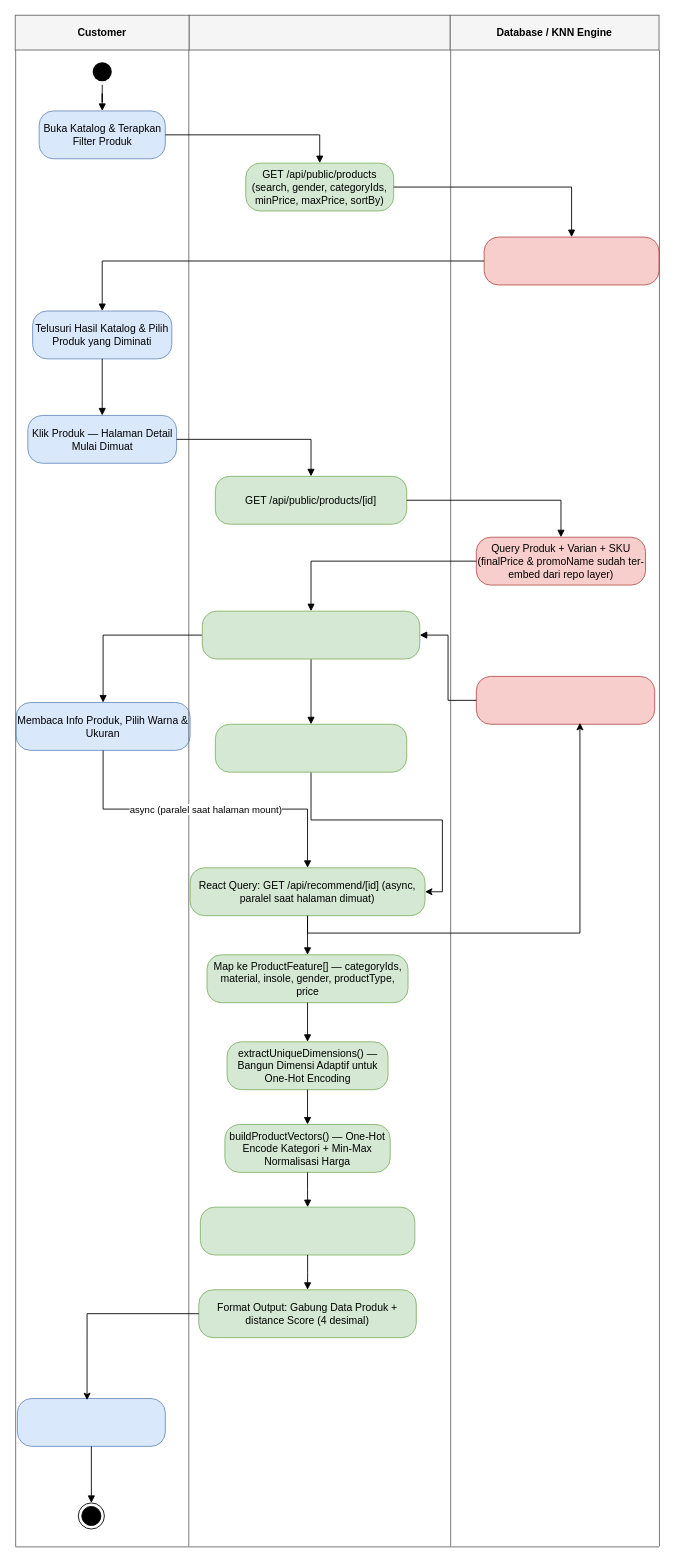
Some shapes in this 675 by 1563 pixel diagram are drawn without their labels. The shapes that lost their labels are listed below. From the top down, each one's centre as x and y in pixels, then its label:
the point at 319,32: Sistem (Frontend / Backend)
the point at 571,260: Query Products WHERE isActive=true + Filters & Pagination
the point at 310,634: Render Detail: finalPrice, promoName, highestPrice, galeri, stok per ukuran
the point at 565,700: prisma.product.findMany(isActive:true) — 1 Query Semua Produk Aktif
the point at 310,747: Find targetProduct dari array di memori (.find() — bukan query DB tambahan)
the point at 307,1230: findKNearest() — Hitung Euclidean Distance, Ambil K=4 Terdekat
the point at 91,1422: Tampilkan Carousel Produk Serupa & Badge Skor Kemiripan
